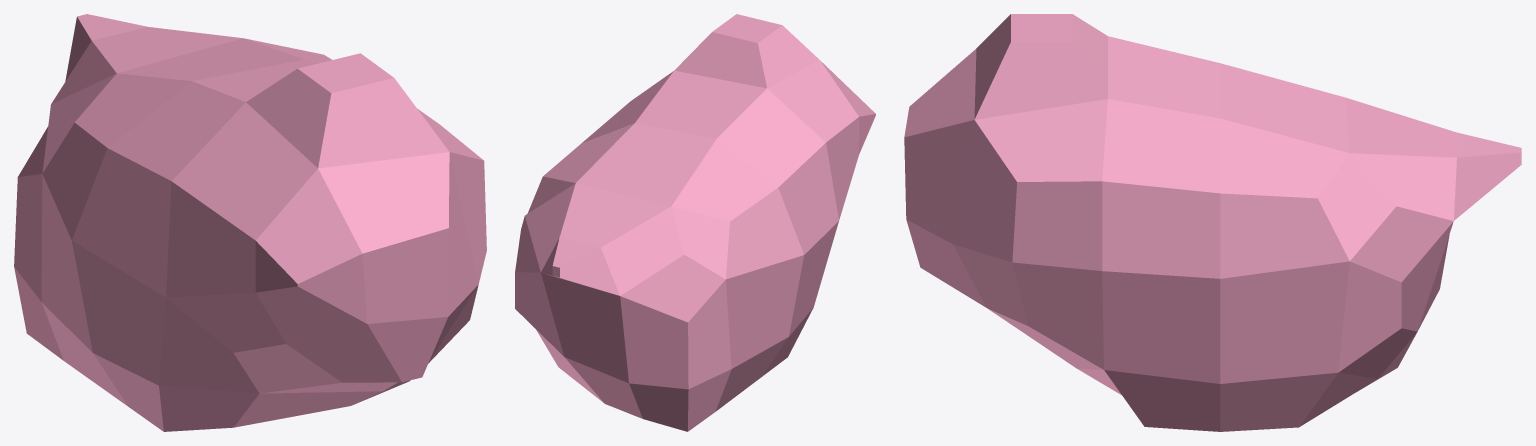
Rendered from pig.glb.
The picture shows the model from 3 angles, left to right: view 1: azimuth 30°, elevation 25°; view 2: azimuth 150°, elevation 25°; view 3: azimuth 270°, elevation 25°; orthographic projection. The views are drawn at different scales.
Parts seen in each view (by area): view 1: pig_body; view 2: pig_body; view 3: pig_body.
Part boxes in pixels (bbox=[...]): pig_body: bbox=[14, 14, 486, 431]; pig_body: bbox=[515, 14, 875, 431]; pig_body: bbox=[904, 14, 1521, 431].
Size of the model in its own units: 0.0782 by 0.0896 by 0.1357.
